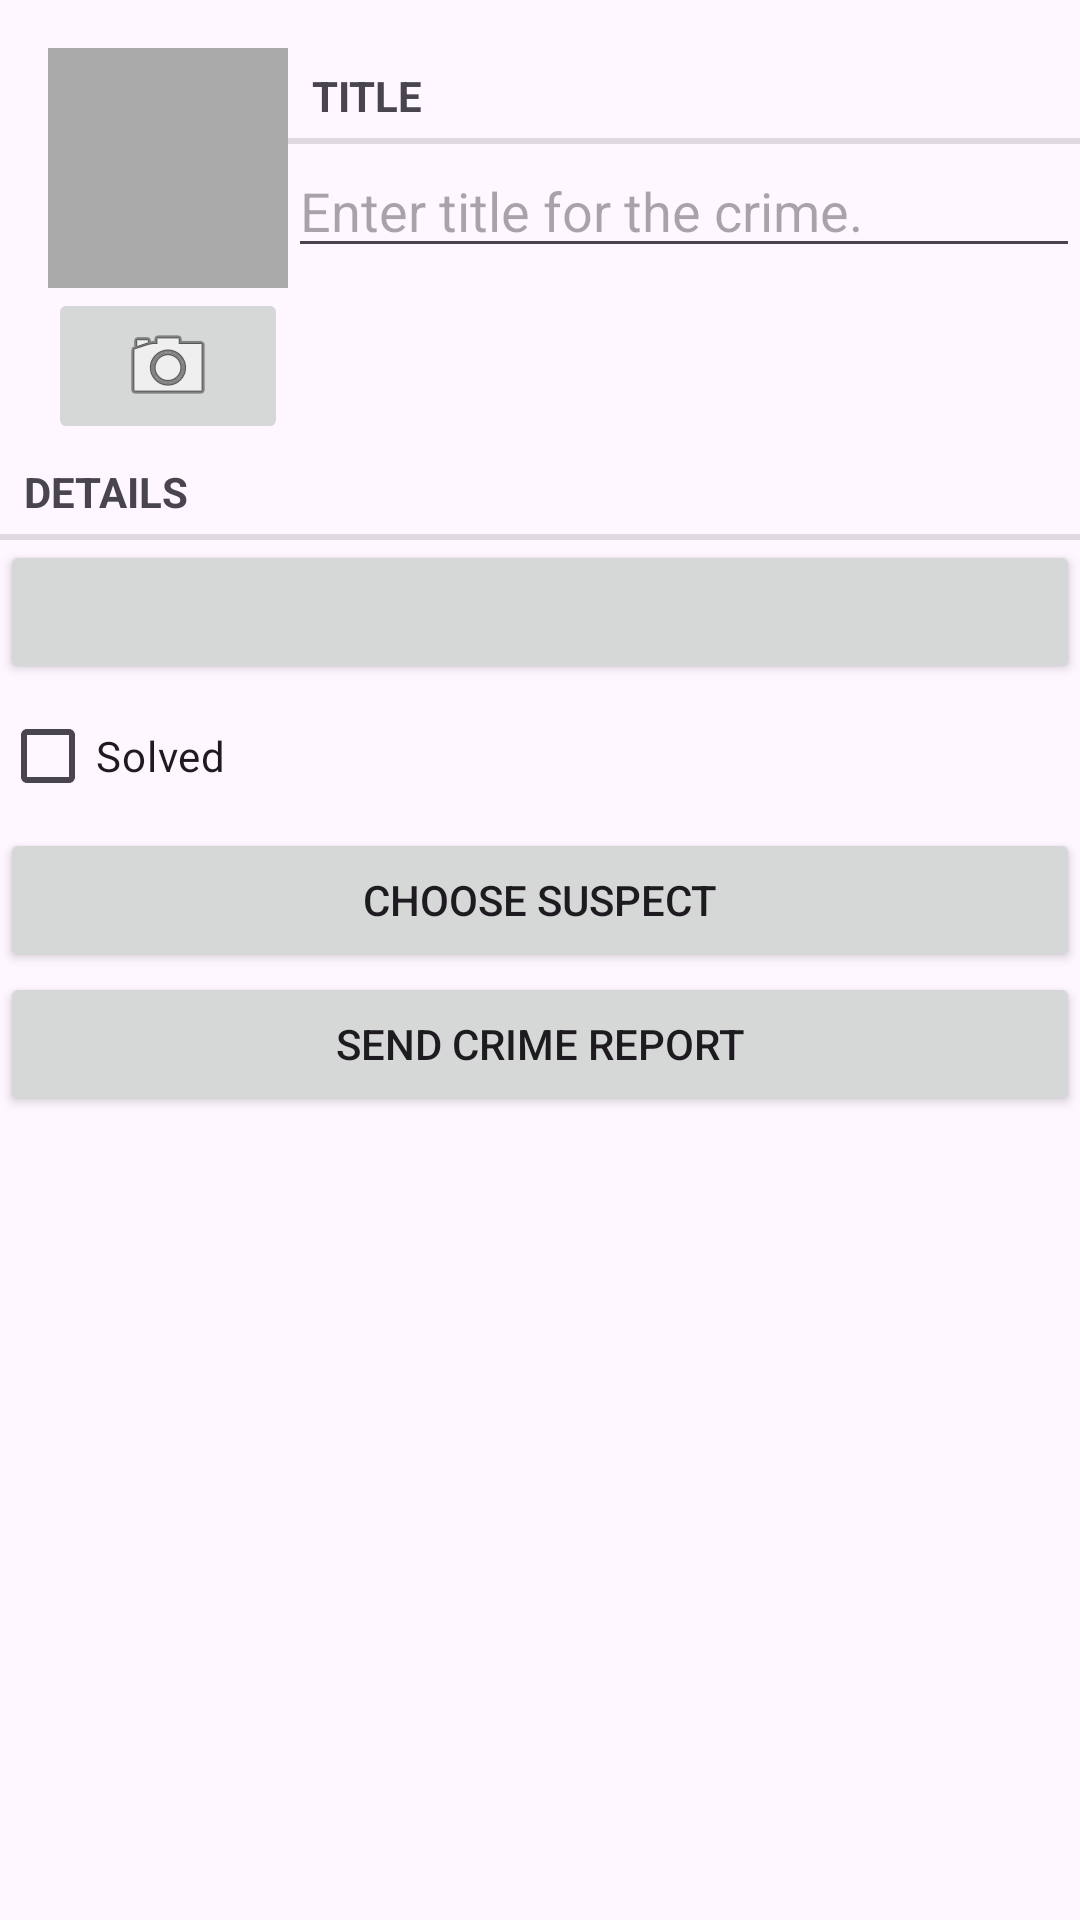

Point at icon controls on the screen. Image size 1080 x 1920, points as (x=x, y=y).
camera: (x=168, y=366)
